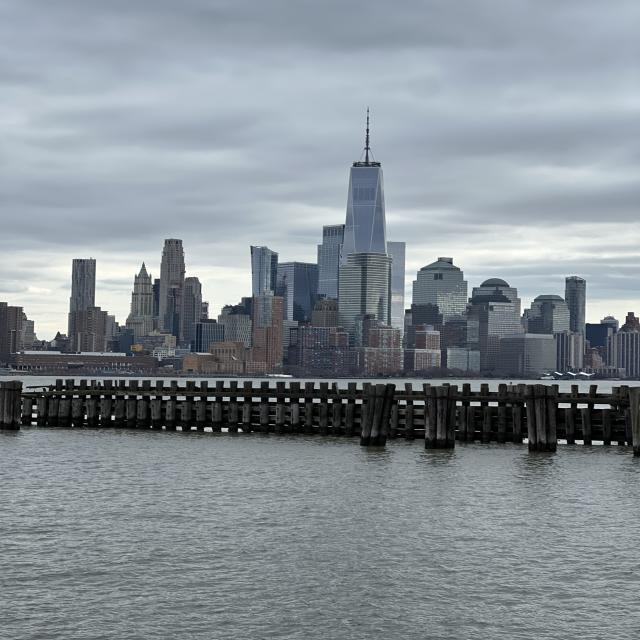WTC: (345, 106, 387, 254)
